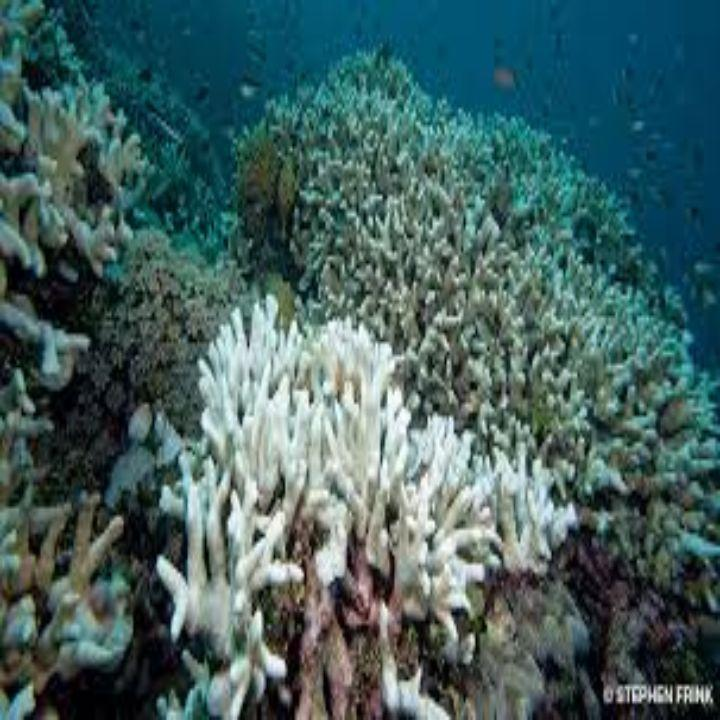Bleached disease: (142, 267, 528, 636)
